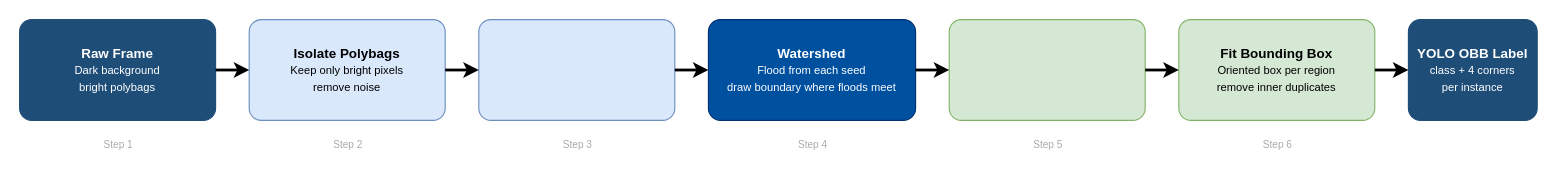
This 1557x174 diagram has some shape labels left out. Here are the shapes that lost their labels. From the top down, the centre of each, then its label:
At point 576,69: "One Seed per Bag Find the centre of each bag instance".
At point 1046,69: "Classify Colour Match region HSV to known class centroids".
